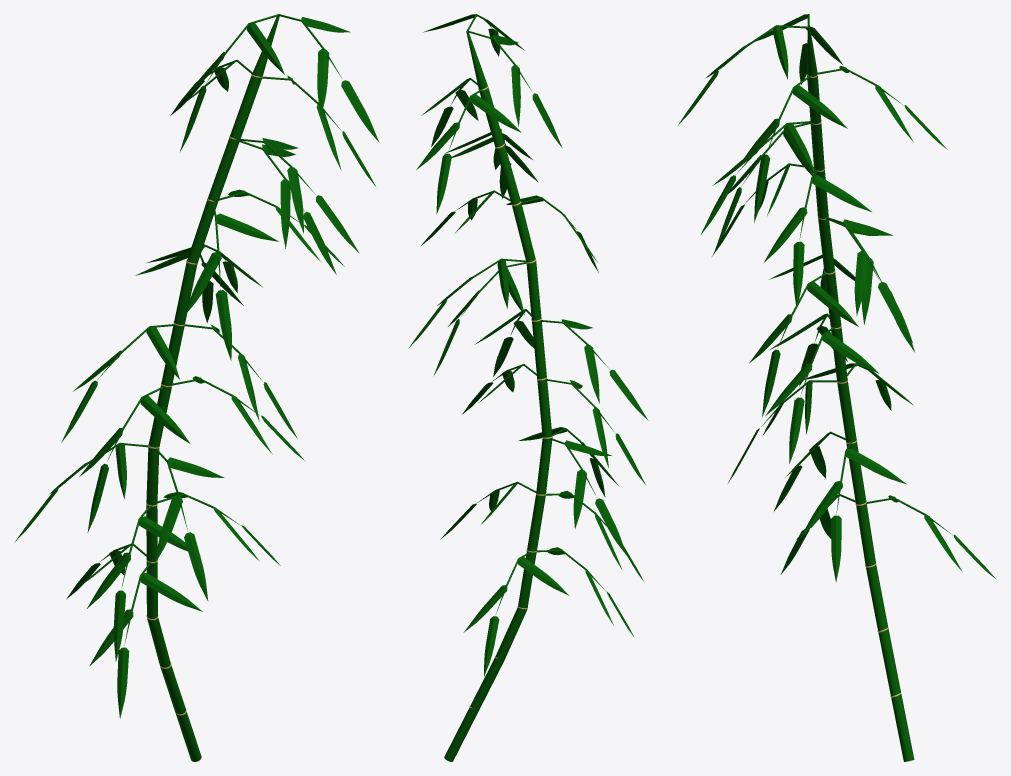
The picture shows the model from 3 angles, left to right: view 1: azimuth 30°, elevation 25°; view 2: azimuth 150°, elevation 25°; view 3: azimuth 270°, elevation 25°; orthographic projection. The views are drawn at different scales.
Visible parts, largest first — view 1: 竹１; view 2: 竹１; view 3: 竹１.
Part boxes in pixels (left/top/right/bottom): 竹１: left=14, top=14, right=379, bottom=761; 竹１: left=408, top=14, right=648, bottom=761; 竹１: left=678, top=14, right=995, bottom=761.
Bounding box in the file's own units: 1328 × 3406 × 1306.
